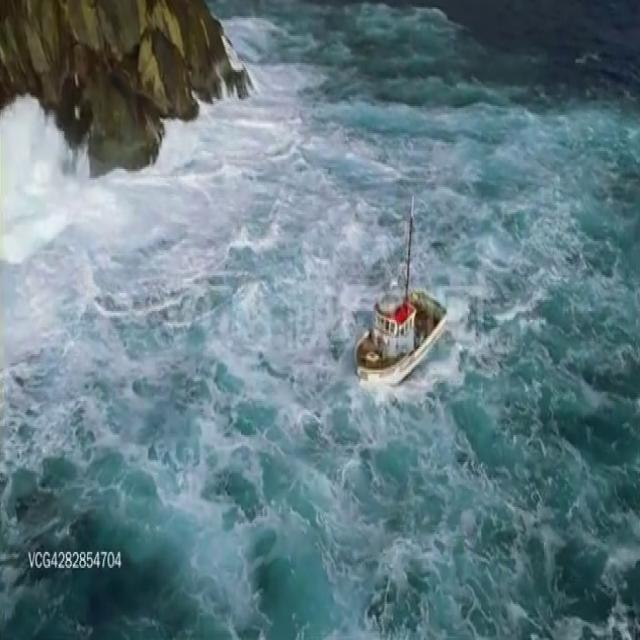houseboat: (351, 254, 447, 379)
